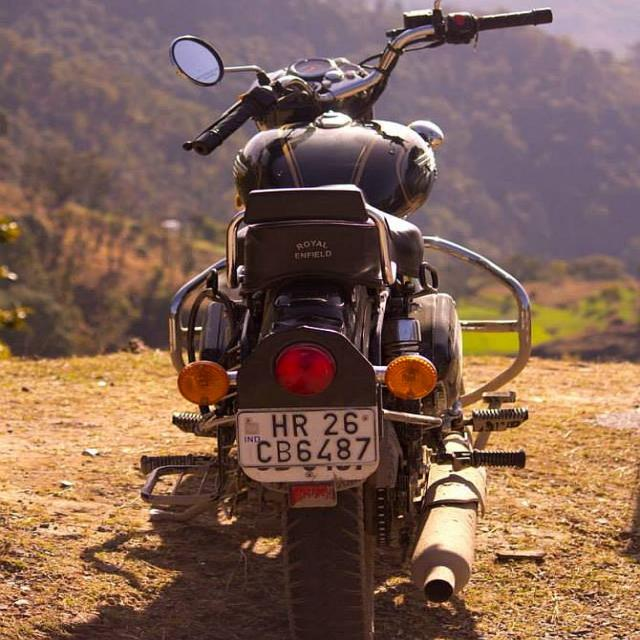license_plate: (234, 405, 380, 481)
